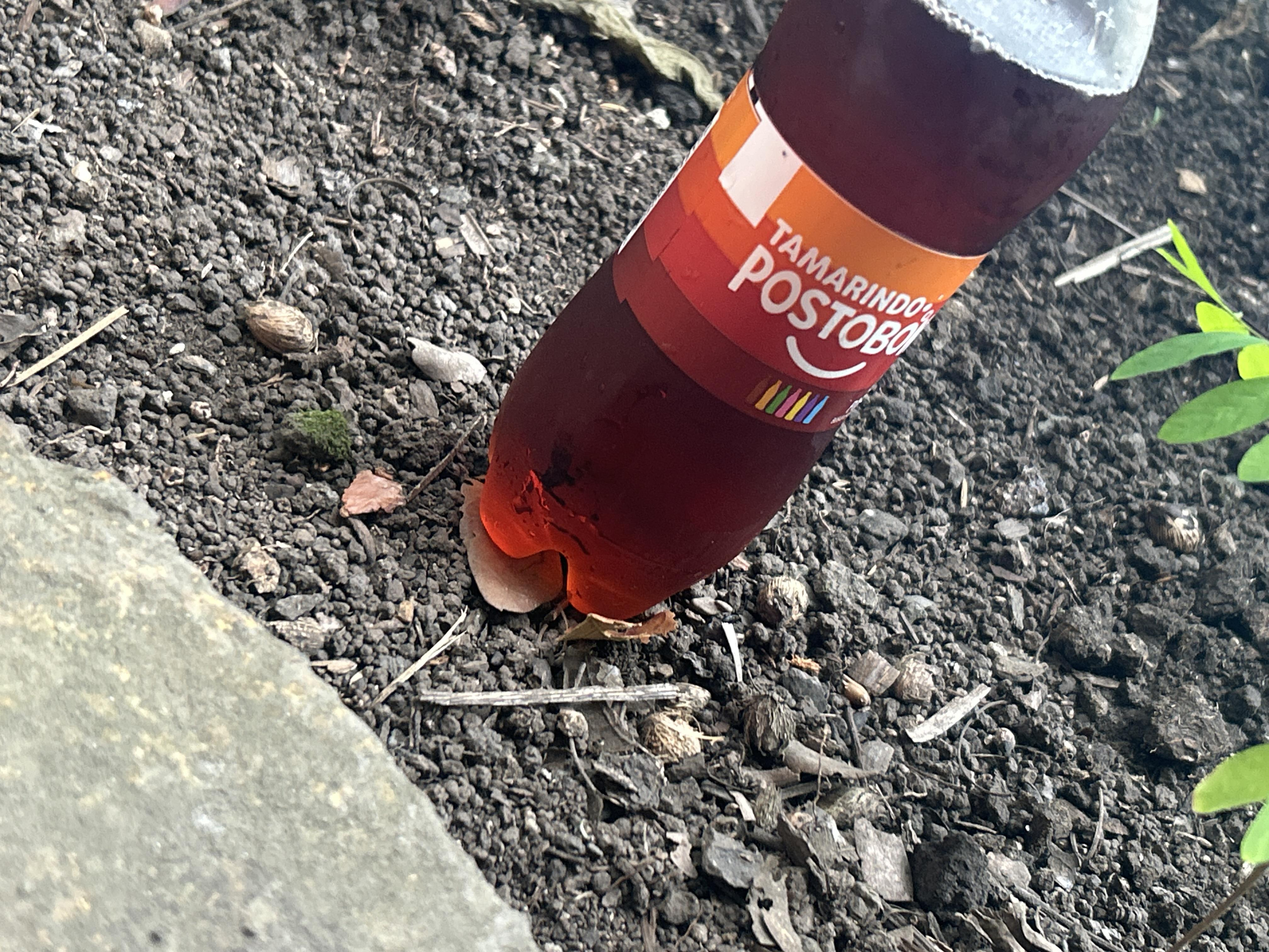gorra: (484, 0, 1155, 614)
